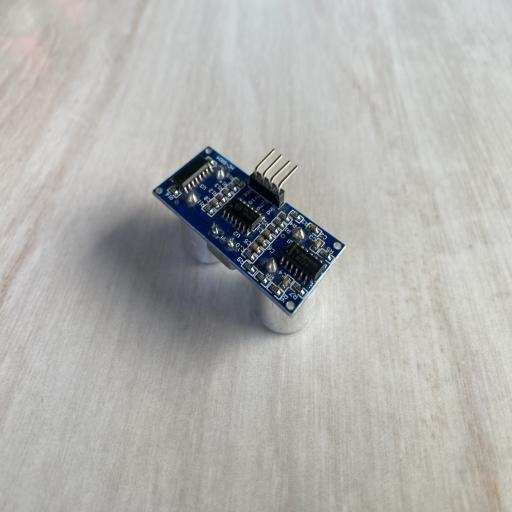Ultrasonic Sensor: (152, 144, 346, 334)
